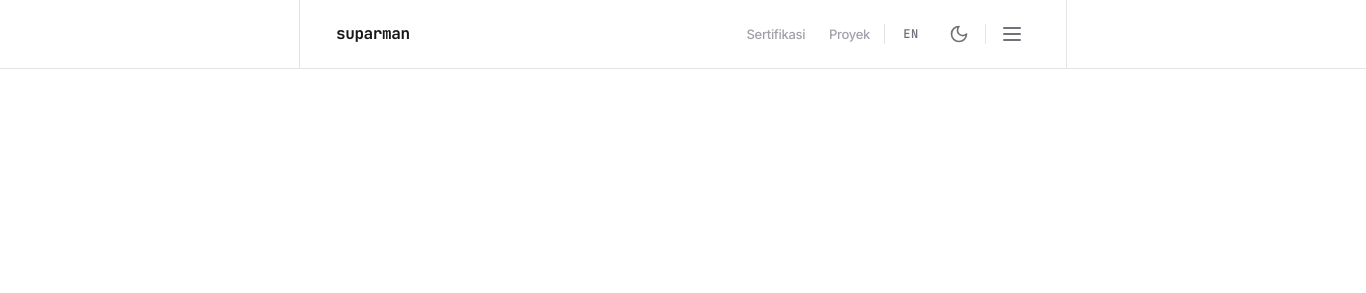
Navbar › menampilkan tautan ke seluruh bagian dengan href anchor yang benar di panel menu (Req 1.1)
// Buka panel menu untuk mengakses daftar tautan lengkap.
Click the button named "Buka menu navigasi".
click(1012, 34)  # box [990,12,1034,56]
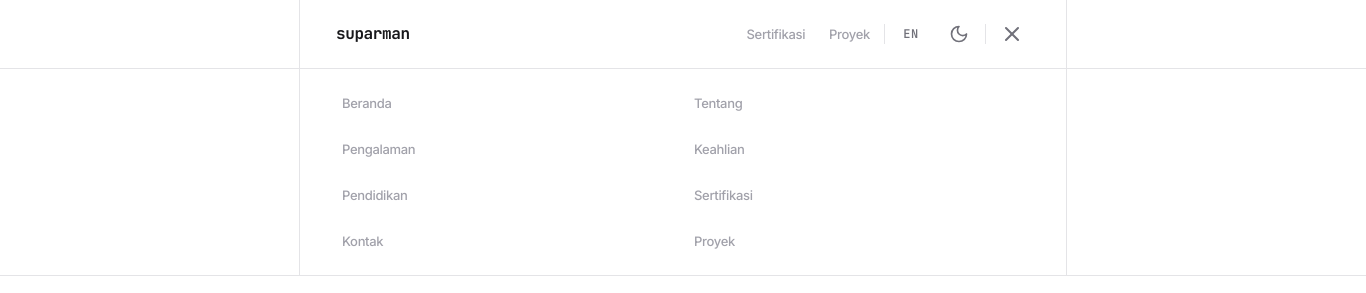
Expected: the element with id "mobile-menu" is shown
Expected: the link "Beranda" is shown, [342,95,392,111]
Expected: the link "Tentang" is shown, [694,95,742,111]
